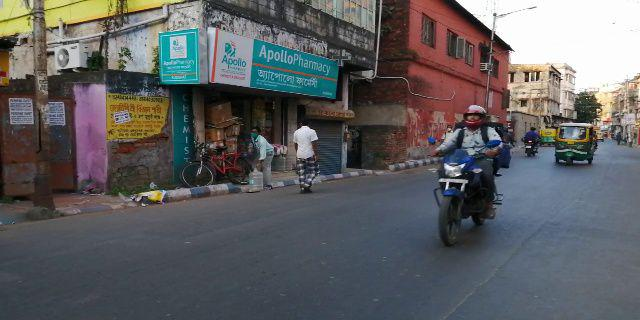Autorickshaw: (552, 121, 600, 168)
Cycle: (174, 137, 257, 185)
Motorbike: (427, 103, 510, 253), (522, 124, 542, 161)
